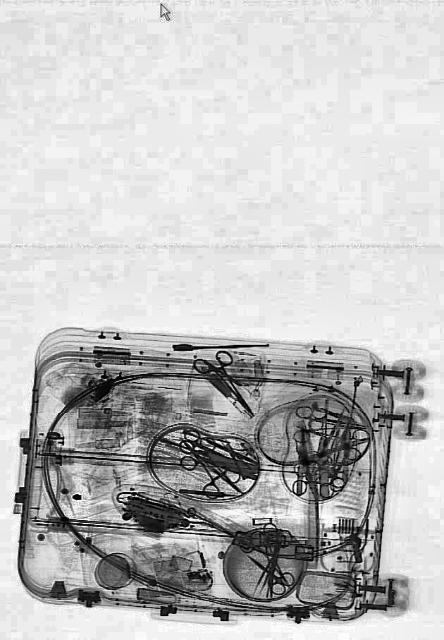Scissors: (190, 332, 264, 432), (168, 418, 242, 510), (242, 542, 294, 600), (294, 405, 364, 445)
